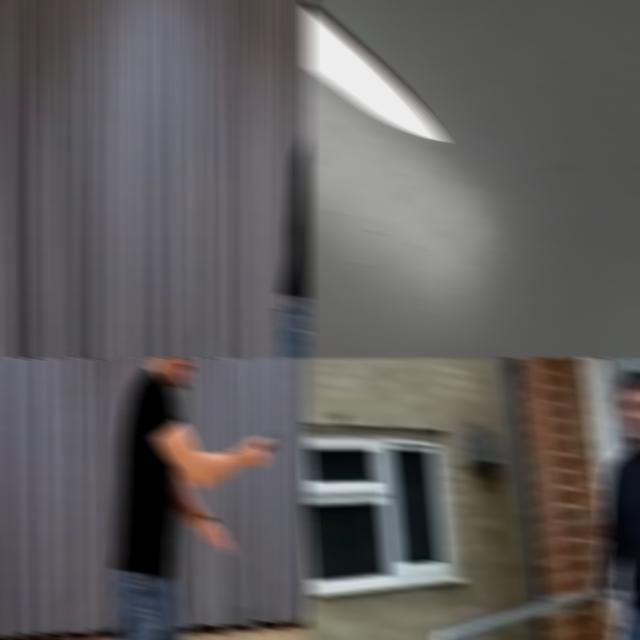Knife: (304, 3, 447, 141)
Knife_Handle: (245, 430, 282, 468)
